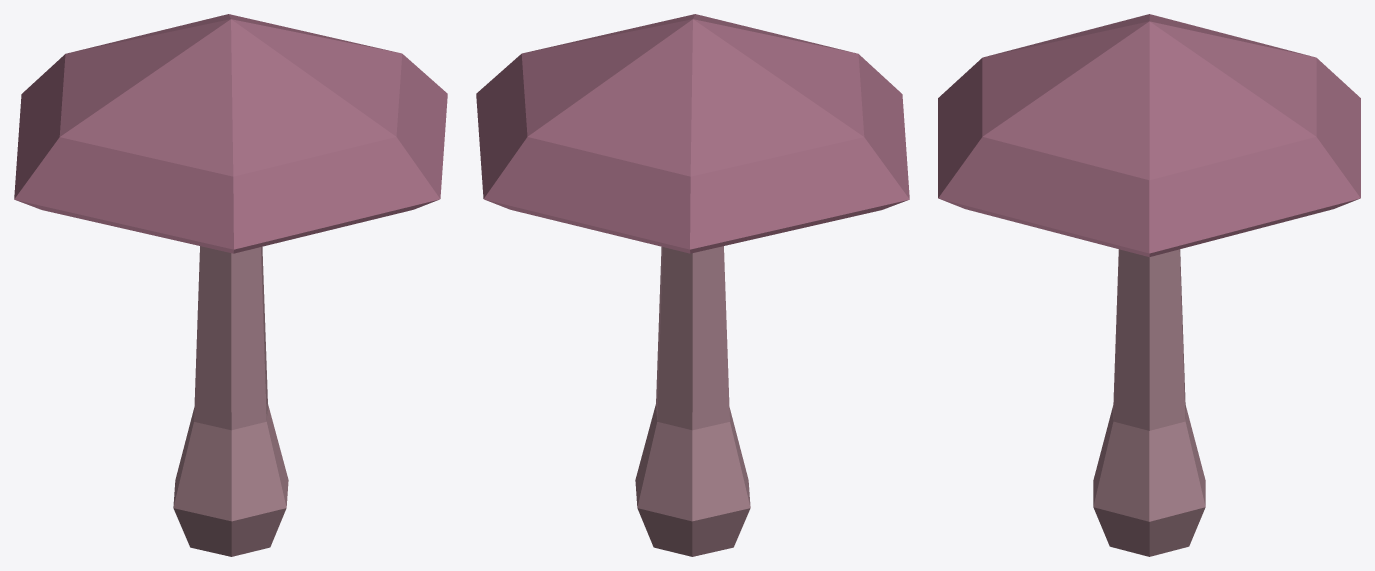
Rendered from Mushroom-A04.fbx.
3 views of the same model, side by side, from view 1: azimuth 30°, elevation 25°; view 2: azimuth 150°, elevation 25°; view 3: azimuth 270°, elevation 25° (orthographic).
Visible parts, largest first — view 1: Mushroom-A04; view 2: Mushroom-A04; view 3: Mushroom-A04.
Part boxes in pixels (x1,y1,x2,y2): Mushroom-A04: [14, 14, 447, 556]; Mushroom-A04: [476, 14, 909, 556]; Mushroom-A04: [938, 14, 1360, 556].
Bounding box in the file's own units: 55.61 × 63.53 × 47.19.
